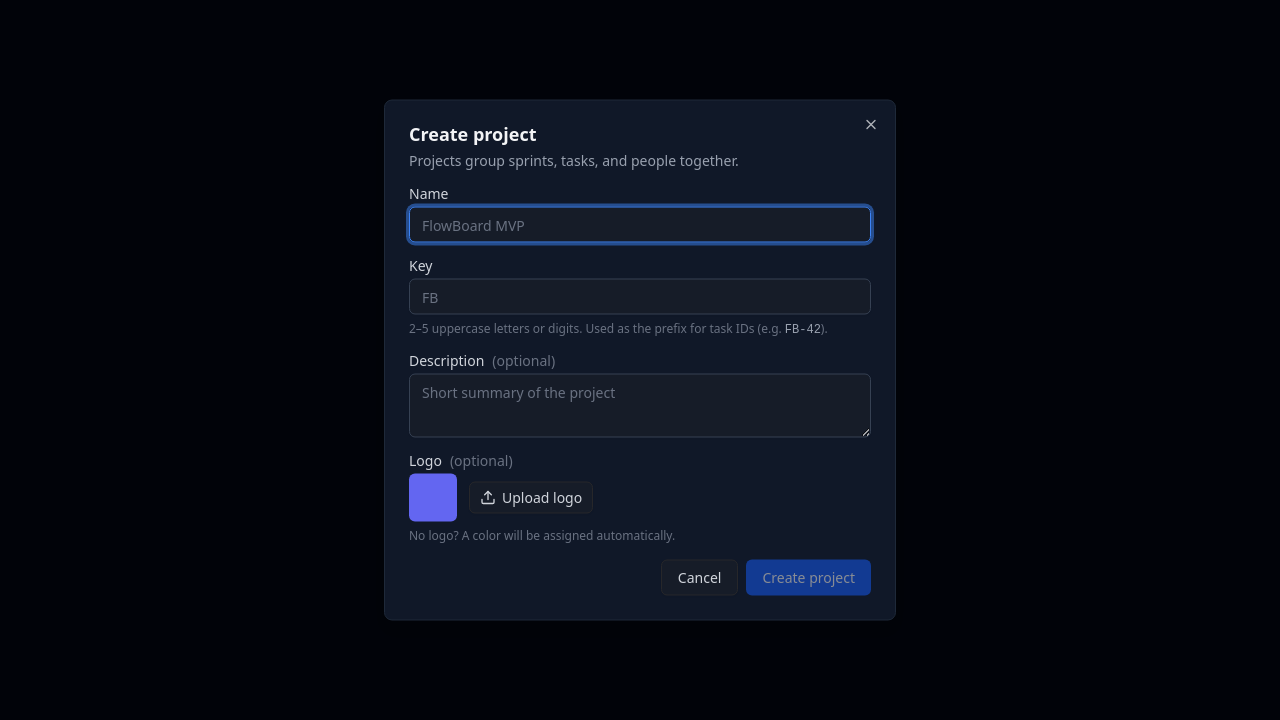
it: CreateProjectModal › shows error message and keeps modal open on failure
In the field labelled "Name": (640, 224) 409,206 -> 871,242, type "Alpha"
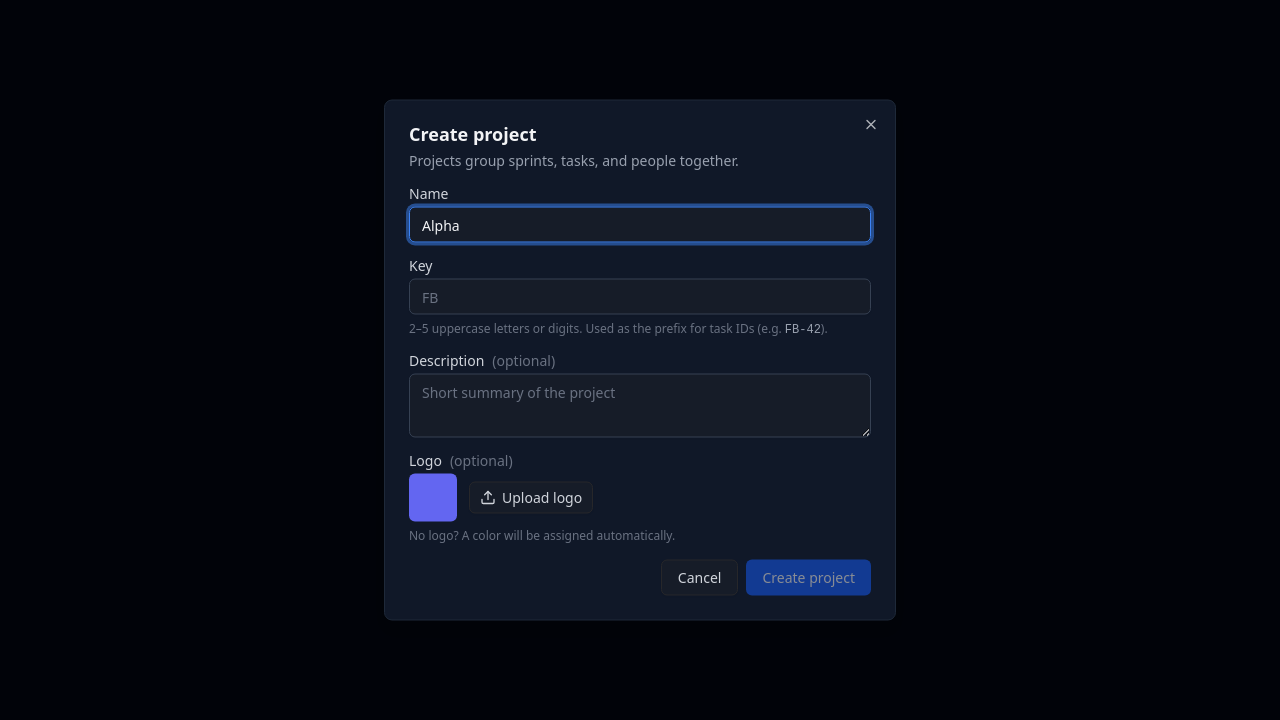
In the field labelled "Key": (640, 296) 409,278 -> 871,314, type "AL"
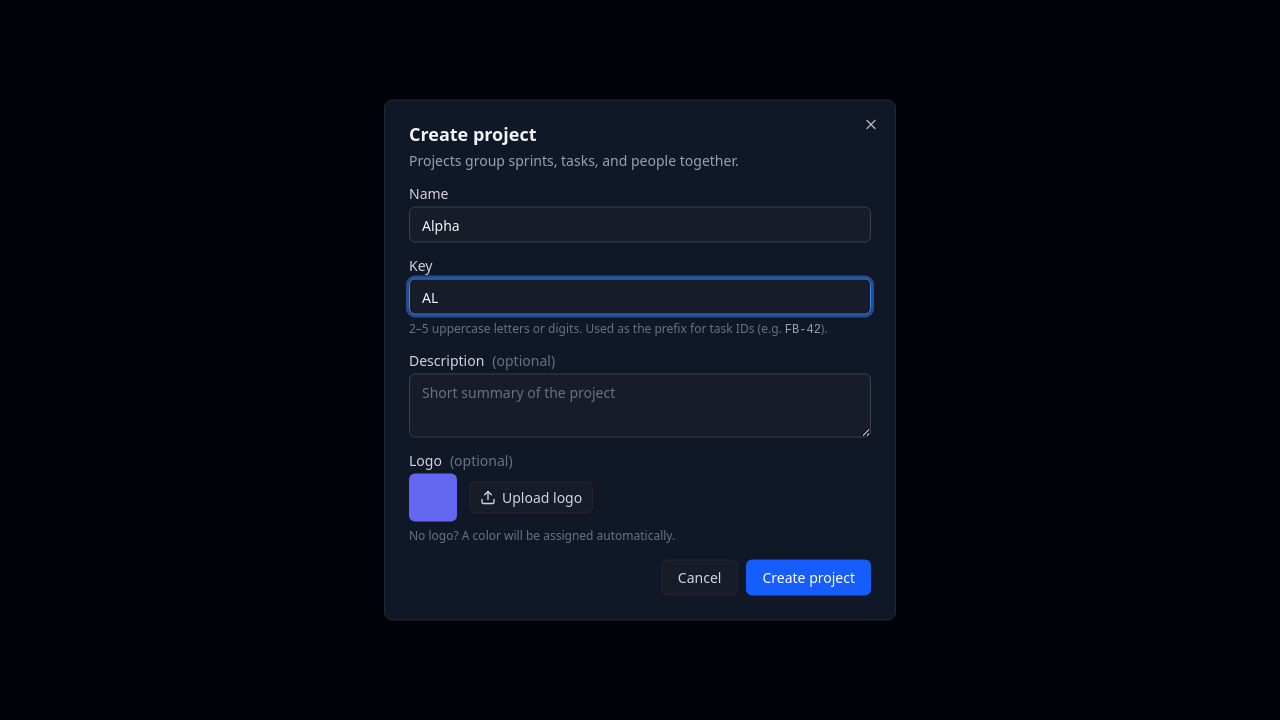
Click the button "Create project": (809, 578) 746,560 -> 871,596
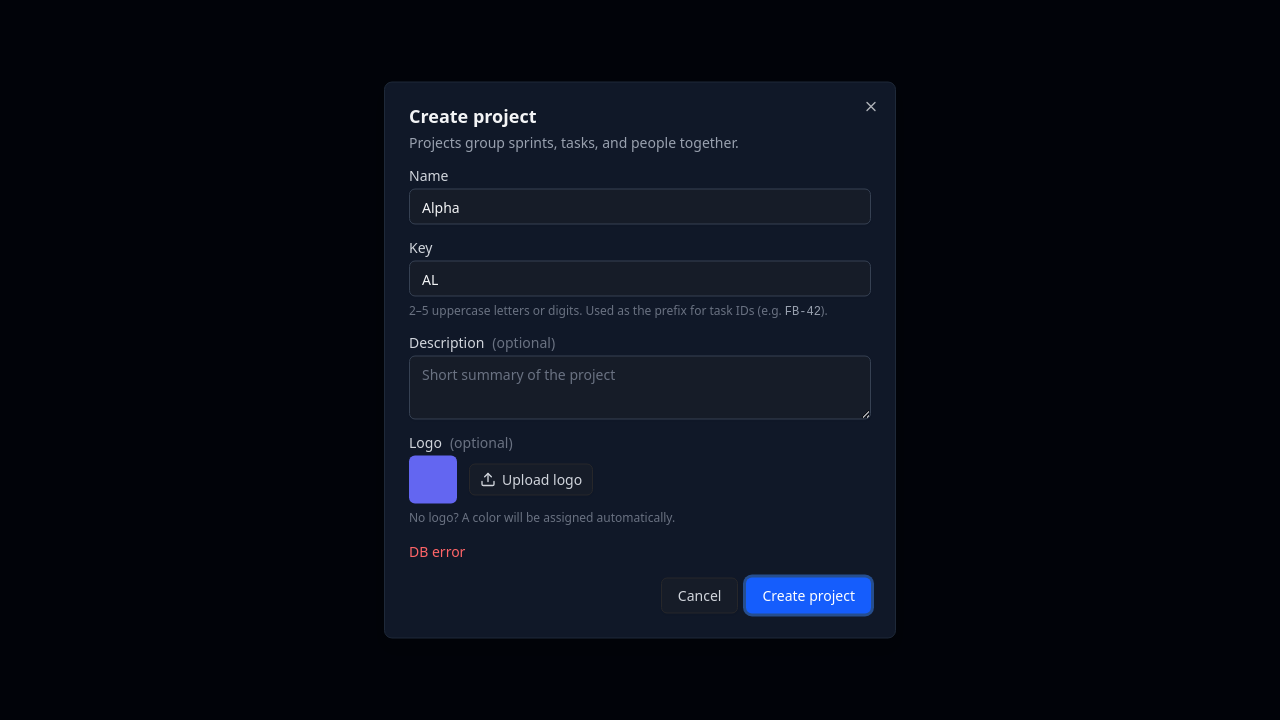
Now the message reads "DB error", box 409,542 -> 465,560
